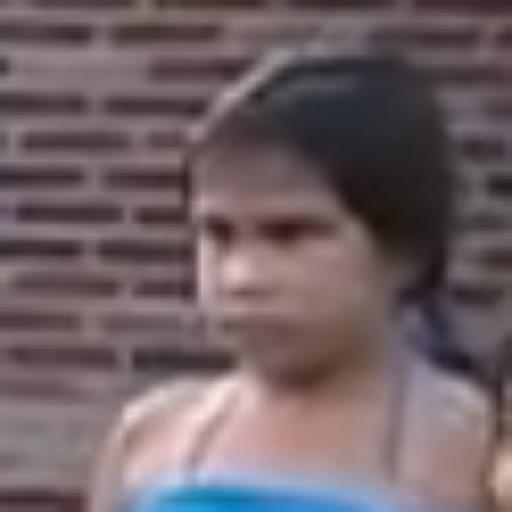Autism: (136, 63, 488, 407)
